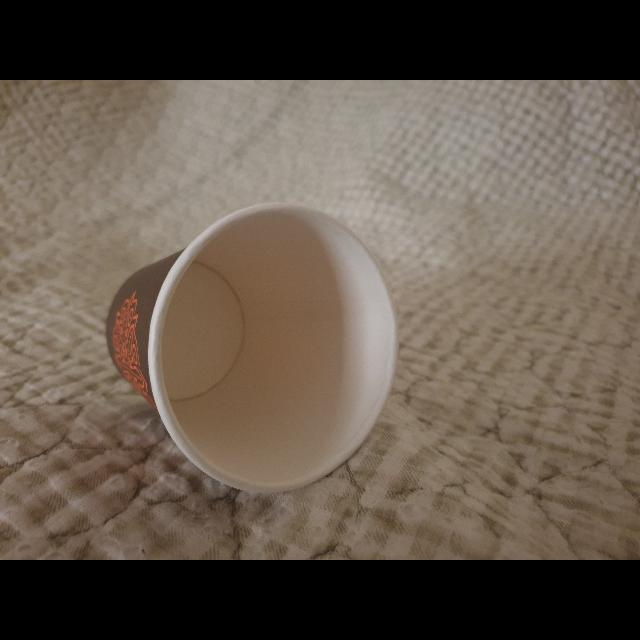trash: (105, 202, 398, 494)
